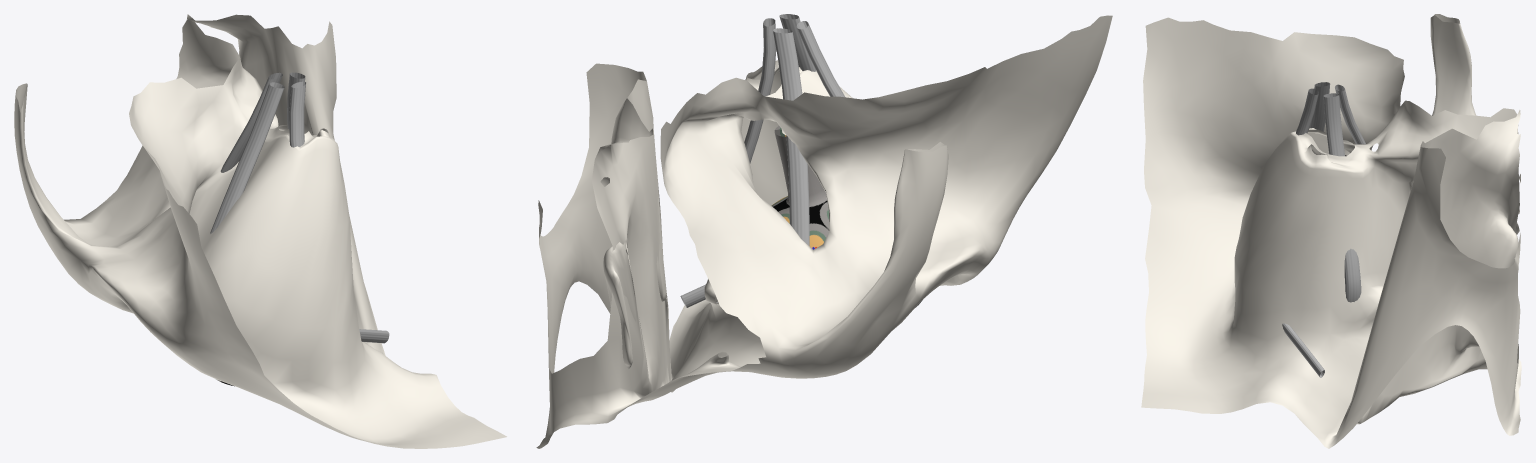
File: sight.obj
The picture shows the model from 3 angles, left to right: view 1: azimuth 30°, elevation 25°; view 2: azimuth 150°, elevation 25°; view 3: azimuth 270°, elevation 25°; orthographic projection. The views are drawn at different scales.
Parts seen in each view (by area): view 1: SighSkul_pivot, SighTe05_pivot, SighTe01_pivot, SighTe04_pivot; view 2: SighSkul_pivot, SighTe04_pivot, SighEsc1, SighTe03_pivot, SighTe05_pivot, SighTe01_pivot; view 3: SighSkul_pivot, SighTe03_pivot, SighTe04_pivot, SighTe05_pivot, SighTe02_pivot, SighTe01_pivot.
Part boxes in pixels (box(x1,y1,x2,y2)): SighSkul_pivot: box(14, 14, 506, 448); SighTe05_pivot: box(210, 82, 284, 233); SighTe01_pivot: box(289, 81, 305, 147); SighTe04_pivot: box(220, 72, 282, 172); SighSkul_pivot: box(536, 15, 1112, 448); SighTe04_pivot: box(773, 28, 809, 245); SighEsc1: box(774, 129, 829, 249); SighTe03_pivot: box(744, 18, 776, 163); SighTe05_pivot: box(796, 21, 922, 307); SighTe01_pivot: box(779, 14, 816, 71); SighSkul_pivot: box(1141, 14, 1521, 448); SighTe03_pivot: box(1323, 93, 1361, 302); SighTe04_pivot: box(1335, 84, 1365, 144); SighTe05_pivot: box(1309, 82, 1330, 131); SighTe02_pivot: box(1282, 323, 1324, 377); SighTe01_pivot: box(1296, 88, 1318, 135).
Size of the model in its own units: 5095 by 5252 by 5868.
